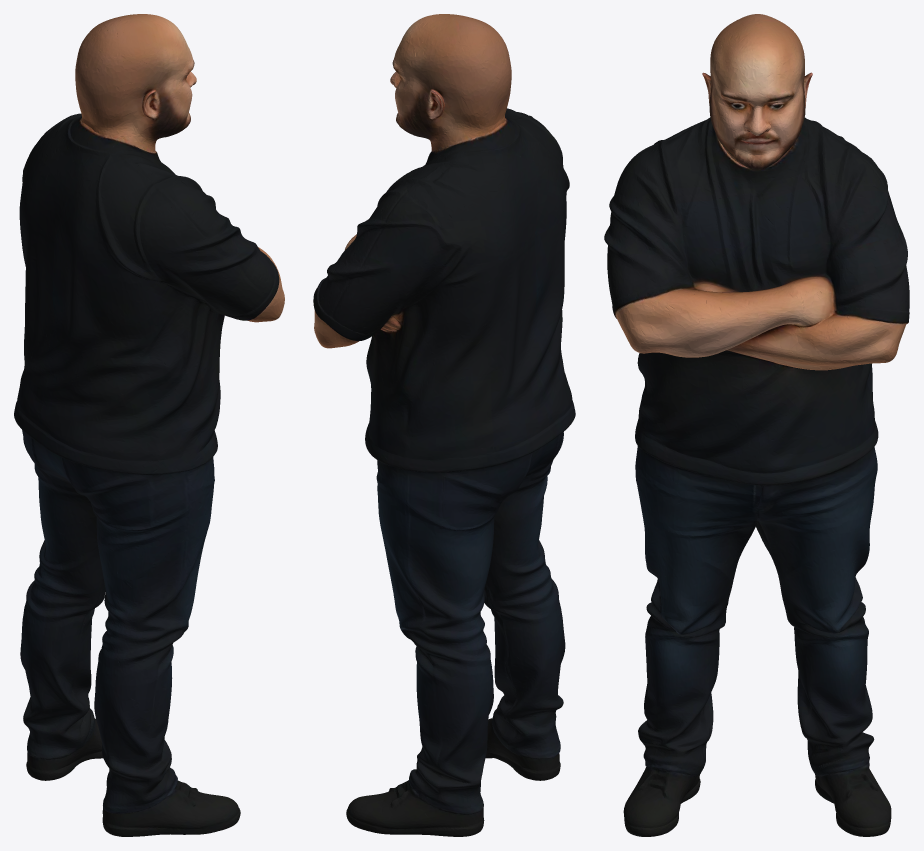
The model's file is hologram.glb.
3 views of the same model, side by side, from view 1: azimuth 30°, elevation 25°; view 2: azimuth 150°, elevation 25°; view 3: azimuth 270°, elevation 25° (orthographic). The views are drawn at different scales.
Parts seen in each view (by area): view 1: tripo_node_51dd790d-0058-442f-9a2e-44ff9ae7305e; view 2: tripo_node_51dd790d-0058-442f-9a2e-44ff9ae7305e; view 3: tripo_node_51dd790d-0058-442f-9a2e-44ff9ae7305e.
Boxes of the visible parts, x1,y1,x2,y2 form: tripo_node_51dd790d-0058-442f-9a2e-44ff9ae7305e: (14,14,284,836); tripo_node_51dd790d-0058-442f-9a2e-44ff9ae7305e: (313,14,575,836); tripo_node_51dd790d-0058-442f-9a2e-44ff9ae7305e: (604,14,909,836).
Size of the model in its own units: 0.2741 by 1 by 0.3499.
Materials: 1 (1 with a texture image).
